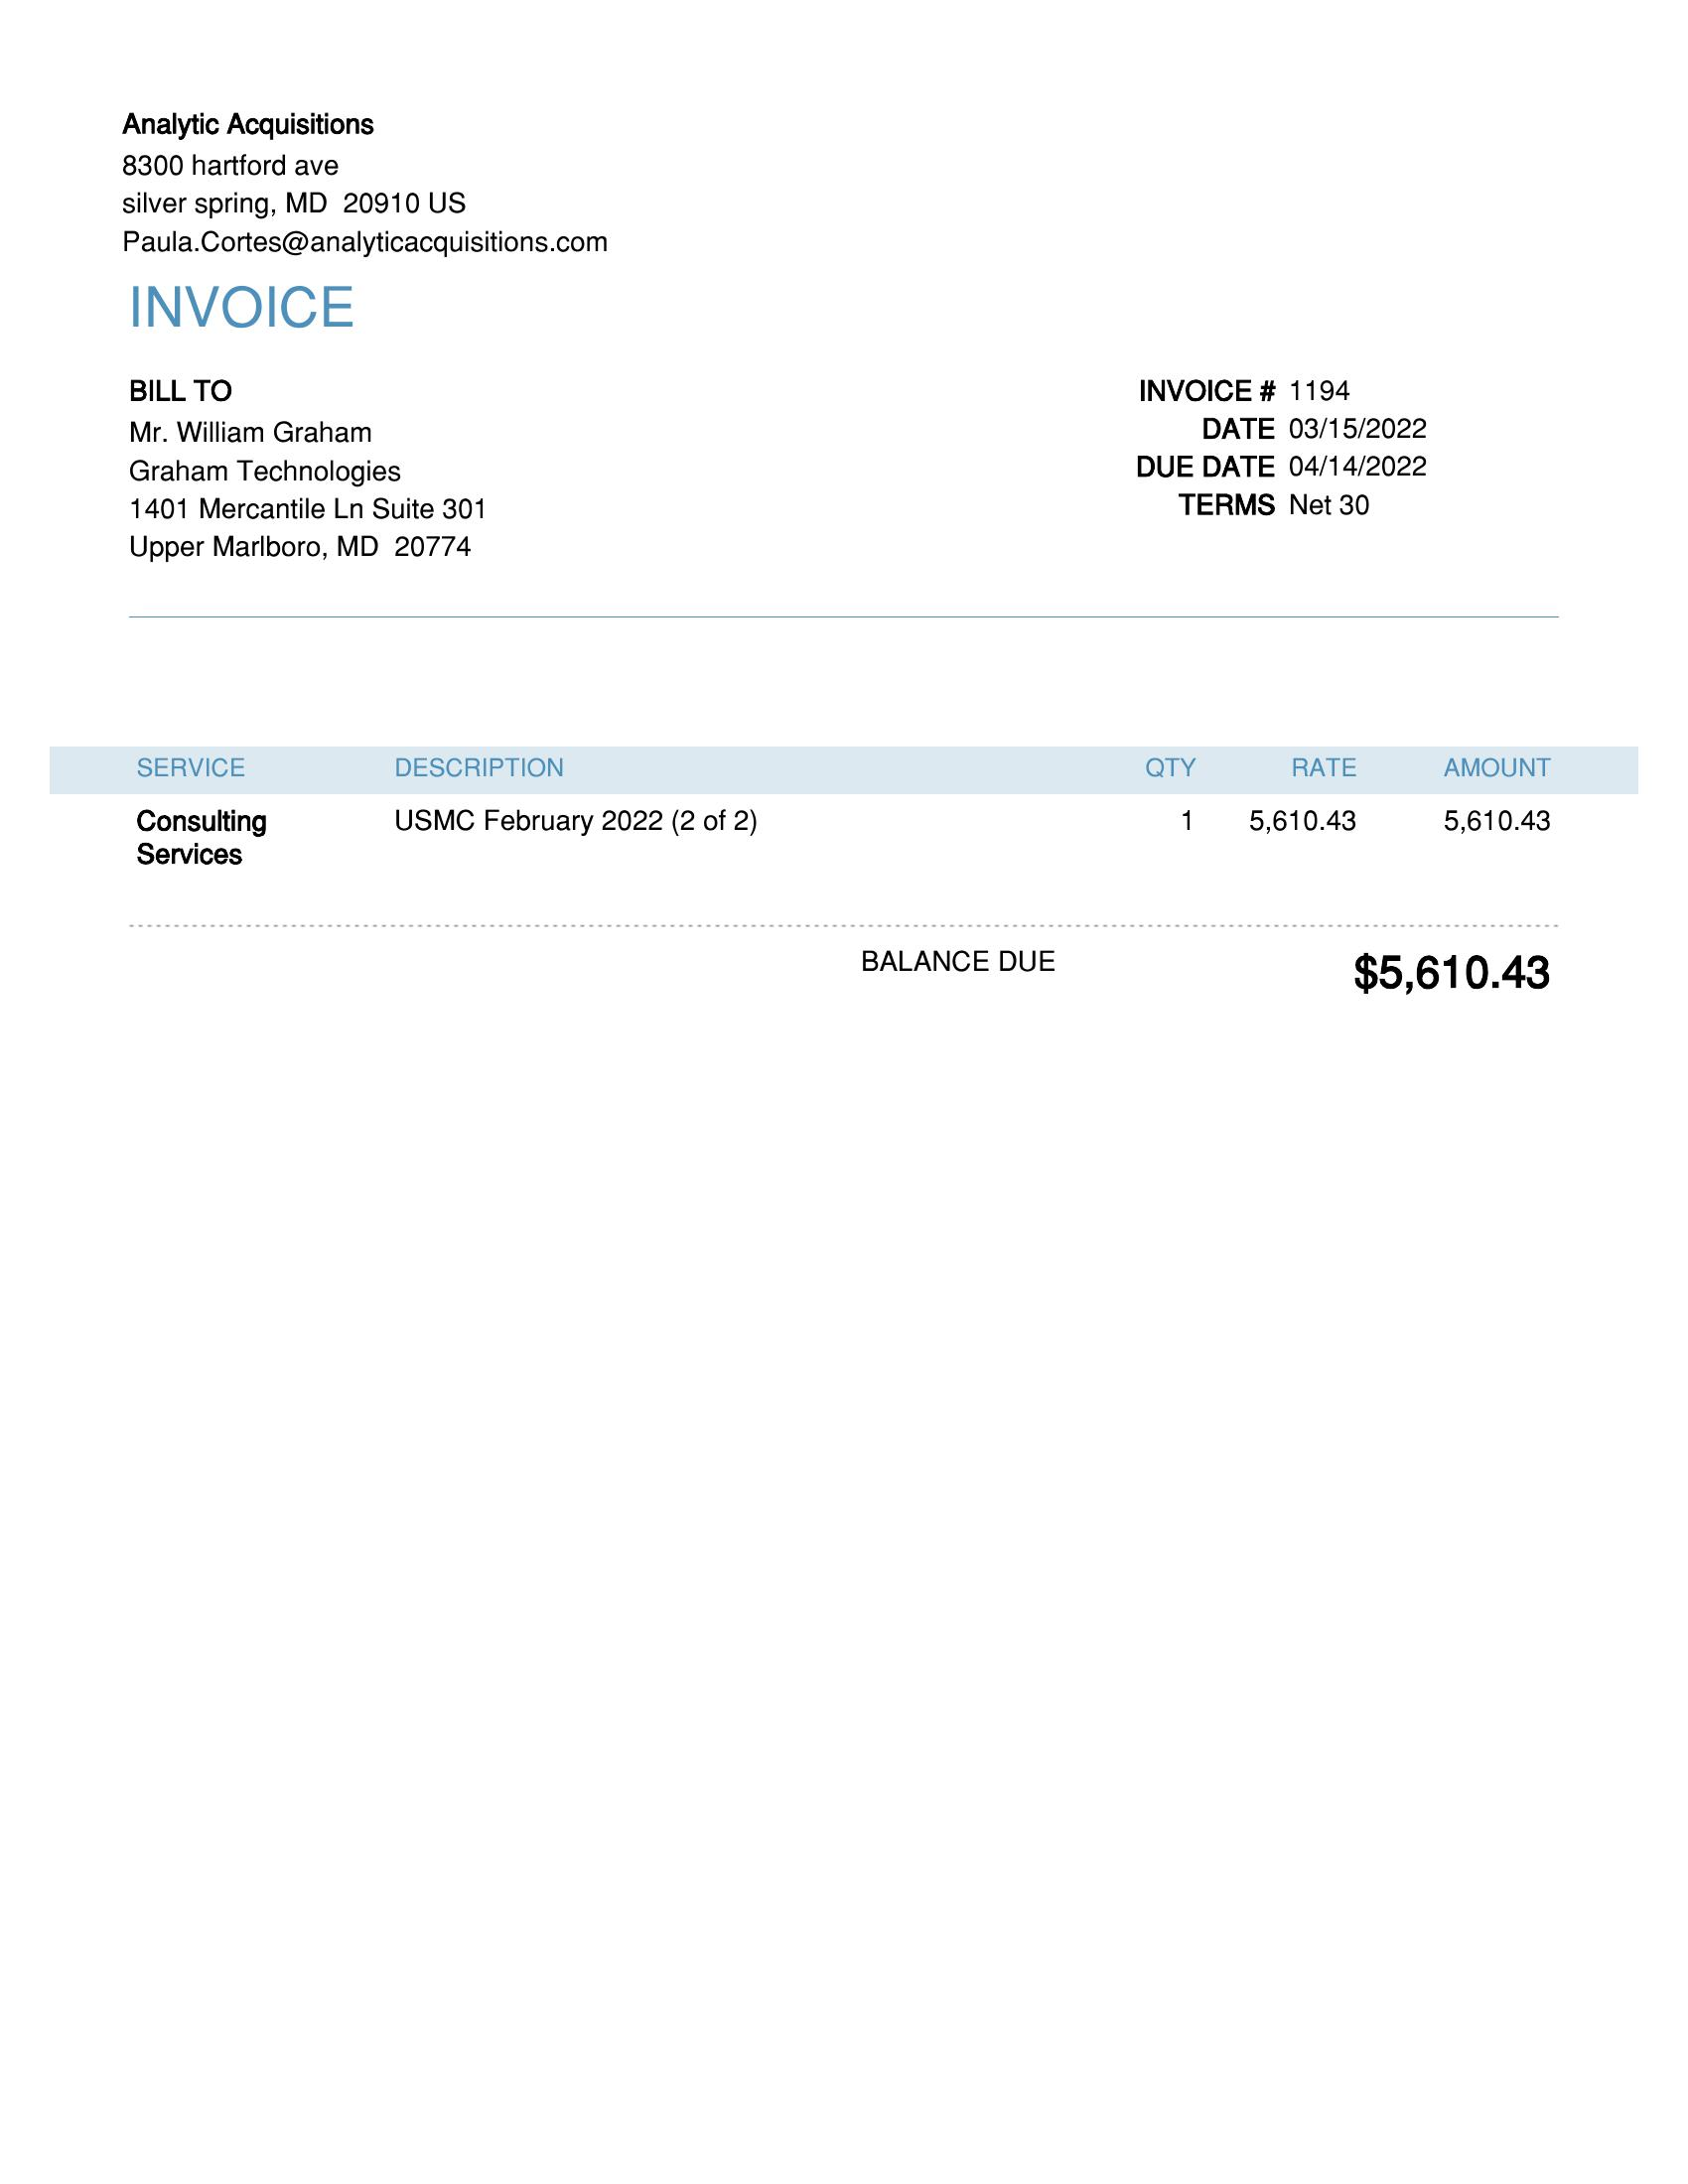table: (37, 721, 1647, 931)
